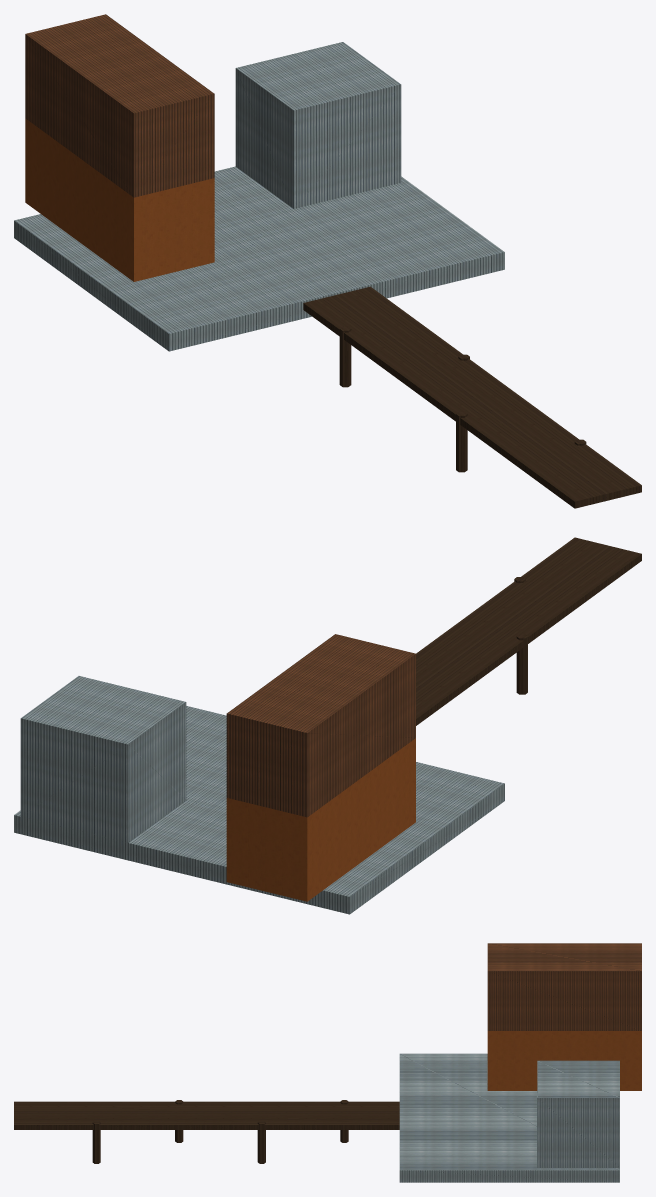
Rendered from sunken_lab_01.glb.
3 renders of one model, top to bottom at view 1: azimuth 30°, elevation 25°; view 2: azimuth 150°, elevation 25°; view 3: azimuth 270°, elevation 25°, orthographic. The views are drawn at different scales.
Visible parts, largest first — view 1: sunken_lab_01; view 2: sunken_lab_01; view 3: sunken_lab_01.
Part boxes in pixels (x1,y1,x2,y2): sunken_lab_01: [14, 14, 641, 508]; sunken_lab_01: [14, 537, 641, 914]; sunken_lab_01: [14, 943, 641, 1182].
Size of the model in its own units: 10 by 6.4 by 22.8.
4 materials, 4 textured.
